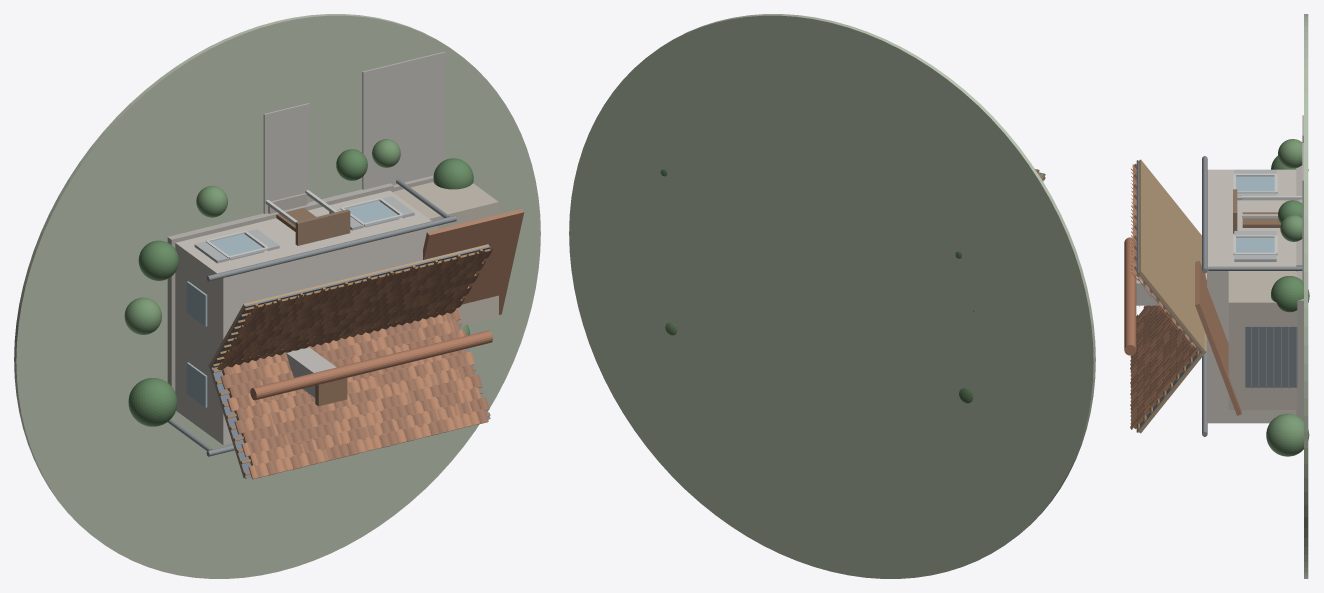
The model's file is maison-realiste.glb.
The picture shows the model from 3 angles, left to right: view 1: azimuth 30°, elevation 25°; view 2: azimuth 150°, elevation 25°; view 3: azimuth 270°, elevation 25°; orthographic projection. The views are drawn at different scales.
Visible parts, largest first — view 1: ground, house_main, roof_old_front, roof_new_front, driveway, roof_old_back, roof_new_back, garage_roof, front_path, garage_body, roof_ridge, foundation_main (+19 smaller); view 2: ground; view 3: house_main, roof_timber_back, garage_body, roof_old_front, garage_door, ground, roof_new_front, garage_roof, bush_3, roof_ridge, bush_4, foundation_garage (+21 smaller).
Boxes of the visible parts, x1,y1,x2,y2 form: ground: (14, 14, 540, 578); house_main: (175, 190, 437, 444); roof_old_front: (221, 308, 489, 479); roof_new_front: (220, 308, 485, 479); driveway: (362, 51, 445, 189); roof_old_back: (223, 249, 492, 367); roof_new_back: (217, 248, 492, 370); garage_roof: (423, 209, 524, 314); front_path: (263, 103, 309, 213); garage_body: (393, 182, 498, 325); roof_ridge: (250, 330, 492, 400); foundation_main: (167, 183, 393, 414); ground: (569, 14, 1095, 578); house_main: (1207, 169, 1296, 423); roof_timber_back: (1138, 159, 1206, 353); garage_body: (1228, 271, 1297, 409); roof_old_front: (1130, 305, 1195, 429); garage_door: (1245, 326, 1297, 387); ground: (1304, 14, 1308, 578); roof_new_front: (1130, 305, 1196, 429); garage_roof: (1195, 260, 1241, 415); bush_3: (1266, 413, 1309, 456); roof_ridge: (1124, 237, 1136, 355); bush_4: (1271, 276, 1308, 312); foundation_garage: (1297, 271, 1303, 415).
Bounding box in the file's own units: 21 × 21 × 6.88.
